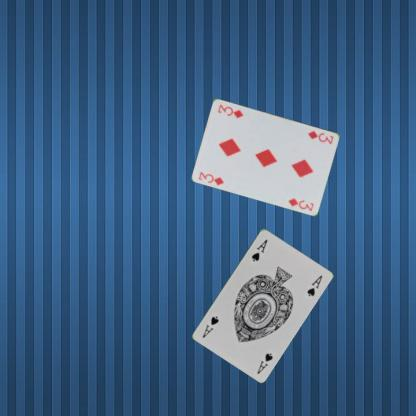3d: (196, 168, 226, 186), (306, 128, 335, 145)
As: (249, 237, 269, 262), (255, 350, 274, 375)
